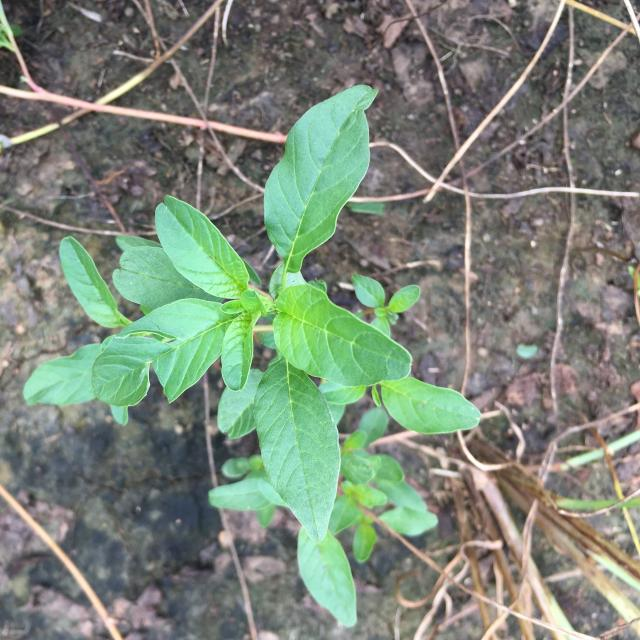Waterhemp: (23, 85, 482, 628)
